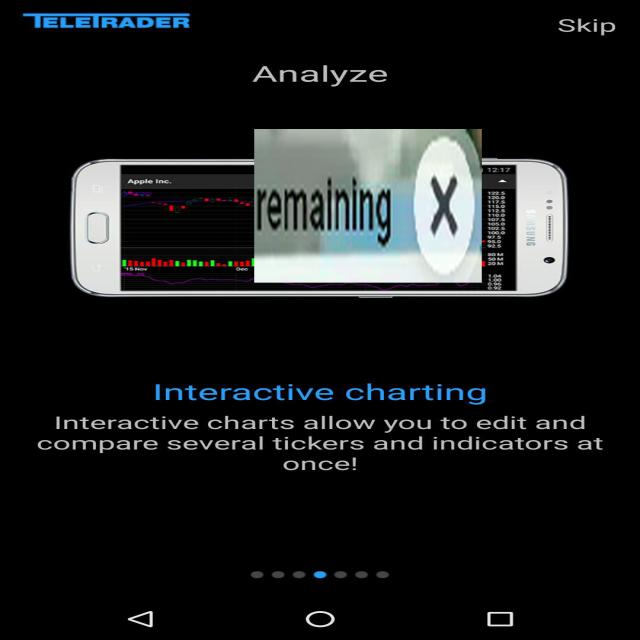misdirection: (254, 129, 482, 283)
